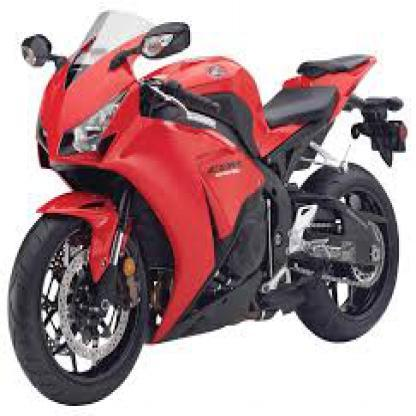Motorcycle: (1, 0, 411, 411)
